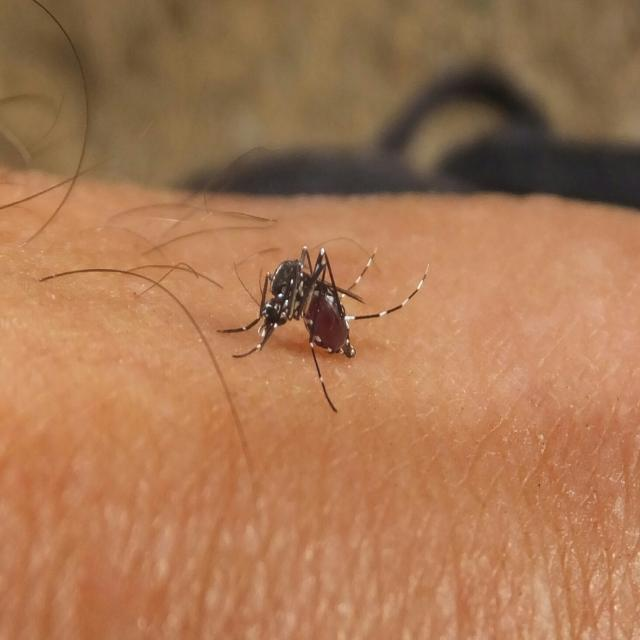albopictus: (217, 225, 428, 417)
